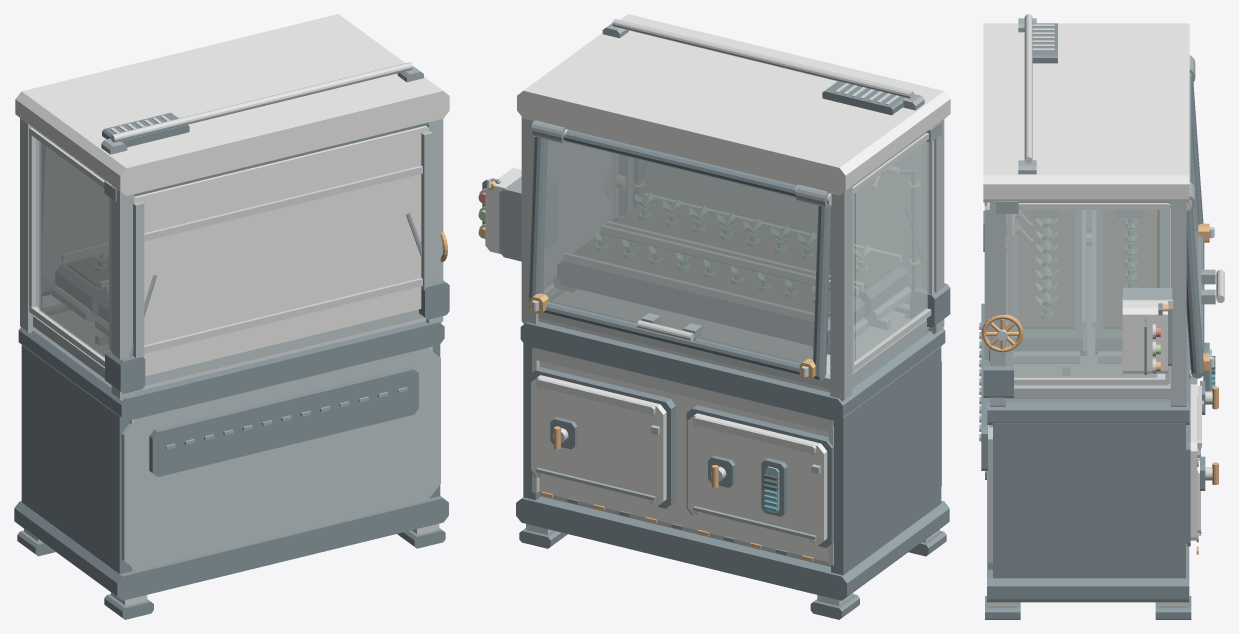
The model's file is seedling_station_martian_hailmary.glb.
3 renders of one model, left to right at view 1: azimuth 30°, elevation 25°; view 2: azimuth 150°, elevation 25°; view 3: azimuth 270°, elevation 25°, orthographic.
Parts seen in each view (by area): view 1: Static__bone, Static__graphite, Static__frame, Static__steel, Static__acrylic, Lid_Acrylic__acrylic, Static__castiron, Tray_A__graphite, Tray_A__soil; view 2: Static__bone, Static__graphite, Lid_Acrylic__acrylic, Static__steel, Static__acrylic, Static__frame, Lid_Frame__graphite, Tray_A__graphite, Static__offwhite, Static__castiron, Tray_A__soil, Tray_B__soil (+5 smaller); view 3: Static__graphite, Static__bone, Static__acrylic, Static__steel, Static__frame, Tray_B__soil, Tray_A__soil, Lid_Frame__graphite, Static__castiron, Tray_B__graphite, Tray_A__graphite, Water_Valve__ochre (+4 smaller).
Boxes of the visible parts, x1,y1,x2,y2 form: Static__bone: (15, 14, 449, 375); Static__graphite: (14, 112, 449, 619); Static__frame: (20, 118, 443, 570); Static__steel: (24, 62, 439, 605); Static__acrylic: (39, 141, 109, 357); Lid_Acrylic__acrylic: (43, 147, 108, 281); Static__castiron: (95, 66, 434, 449); Tray_A__graphite: (56, 254, 108, 315); Tray_A__soil: (68, 256, 108, 286); Static__bone: (485, 14, 950, 562); Static__graphite: (482, 81, 950, 619); Lid_Acrylic__acrylic: (540, 140, 818, 363); Static__steel: (479, 19, 939, 605); Static__acrylic: (544, 141, 928, 361); Static__frame: (521, 117, 944, 566); Lid_Frame__graphite: (528, 129, 830, 380); Tray_A__graphite: (557, 235, 863, 345); Static__offwhite: (563, 193, 901, 320); Static__castiron: (499, 23, 941, 539); Tray_A__soil: (573, 236, 830, 316); Tray_B__soil: (616, 205, 894, 288); Static__graphite: (981, 23, 1209, 619); Static__bone: (983, 23, 1197, 540); Static__acrylic: (1005, 210, 1157, 377); Static__steel: (987, 14, 1224, 607); Static__frame: (984, 200, 1203, 569); Tray_B__soil: (1019, 210, 1074, 328); Tray_A__soil: (1104, 210, 1159, 328); Lid_Frame__graphite: (1186, 75, 1204, 378); Static__castiron: (979, 18, 1215, 533); Tray_B__graphite: (1013, 210, 1082, 353); Tray_A__graphite: (1096, 210, 1165, 353); Water_Valve__ochre: (981, 314, 1023, 352).
Bounding box in the file's own units: 1.57 × 1.81 × 0.8775.
